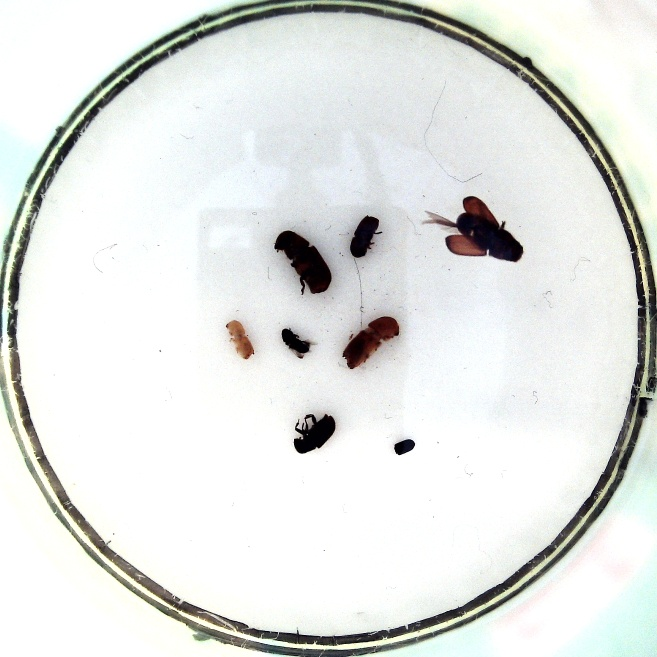acuminatus: (224, 317, 257, 361)
armandi: (291, 408, 336, 456)
boerner: (338, 313, 404, 371)
coleoptera: (279, 325, 319, 360), (392, 436, 419, 458)
leconte: (419, 193, 528, 265), (272, 228, 333, 297)
linnaeus: (348, 212, 385, 261)
